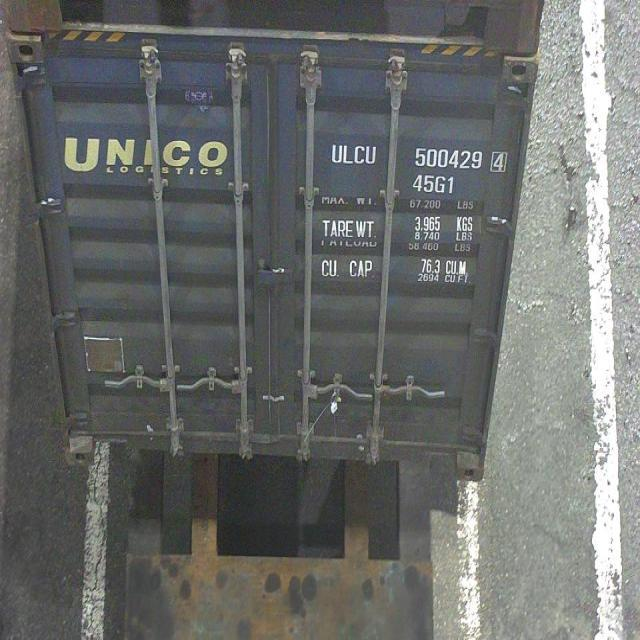ISO: (414, 174, 454, 192)
container_number: (330, 140, 506, 172)
